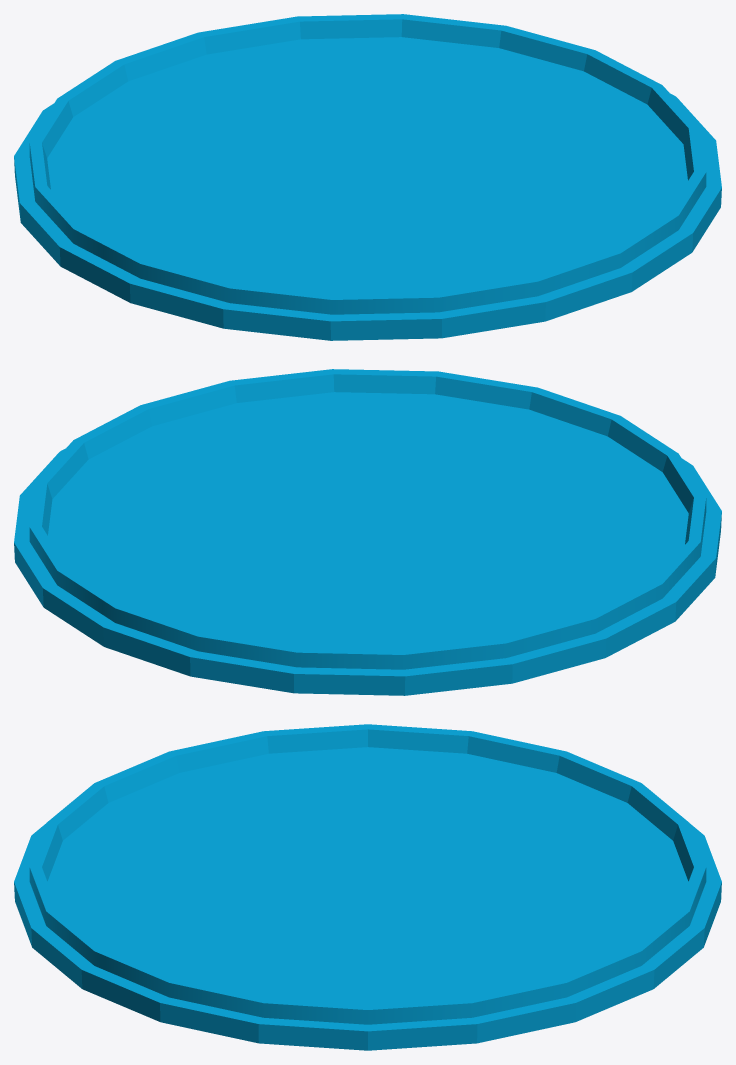
File: Paint_Bucket_02_Lid_Lod0.fbx
3 views of the same model, one above another, from view 1: azimuth 30°, elevation 25°; view 2: azimuth 150°, elevation 25°; view 3: azimuth 270°, elevation 25° (orthographic).
Parts seen in each view (by area): view 1: Paint_Bucket_02_Lid_Lod0; view 2: Paint_Bucket_02_Lid_Lod0; view 3: Paint_Bucket_02_Lid_Lod0.
Part boxes in pixels (x1,y1,x2,y2): Paint_Bucket_02_Lid_Lod0: [14, 14, 721, 340]; Paint_Bucket_02_Lid_Lod0: [14, 369, 721, 695]; Paint_Bucket_02_Lid_Lod0: [14, 724, 721, 1050].
Size of the model in its own units: 22.12 by 1.19 by 22.12.
